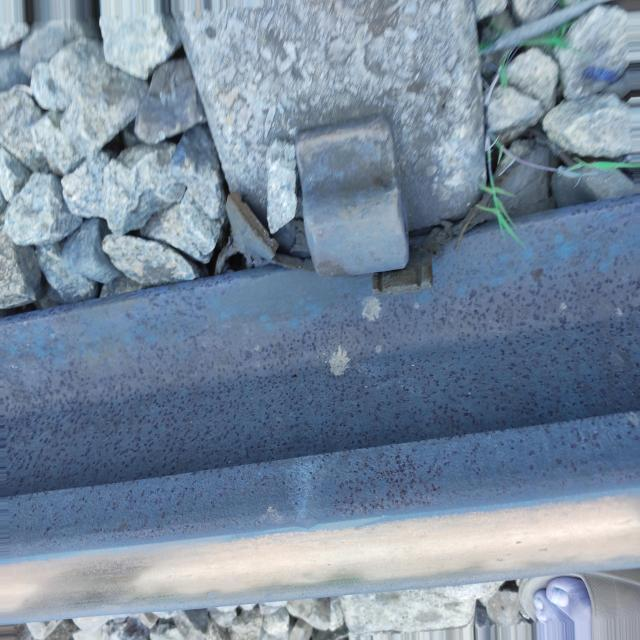Missing Fastener: (296, 117, 409, 276)
